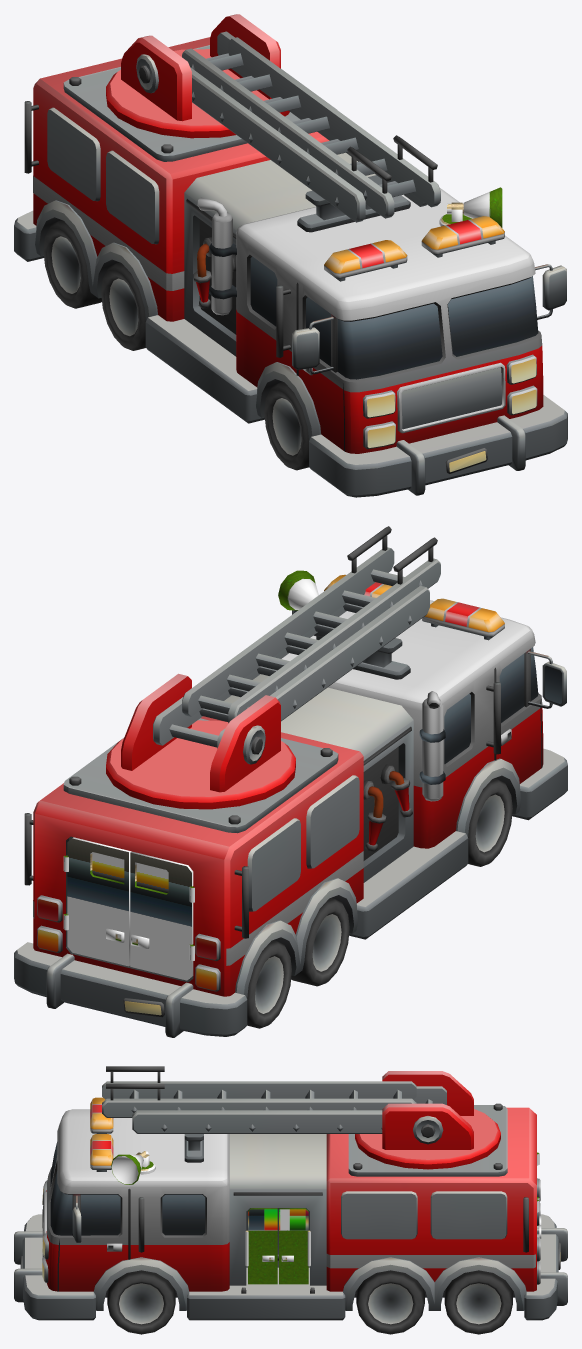
File: Car_11A.fbx
3 views of the same model, one above another, from view 1: azimuth 30°, elevation 25°; view 2: azimuth 150°, elevation 25°; view 3: azimuth 270°, elevation 25° (orthographic). The views are drawn at different scales.
Visible parts, largest first — view 1: Car_11A, Wheel_11A_R.R, Wheel_11A_M.R, Wheel_11A_F.R, Siren; view 2: Car_11A, Door_11A_R.L, Door_11A_R.R, Wheel_11A_M.R, Wheel_11A_R.R, Wheel_11A_F.R, Siren; view 3: Car_11A, Wheel_11A_F.L, Wheel_11A_R.L, Wheel_11A_M.L, Door_11A_M1.L, Door_11A_M2.L, Siren.
Part boxes in pixels (x1,y1,x2,y2): Car_11A: (14,14,567,497); Wheel_11A_R.R: (43,220,101,308); Wheel_11A_M.R: (101,262,145,350); Wheel_11A_F.R: (264,382,308,470); Siren: (439,187,502,227); Car_11A: (14,526,567,1037); Door_11A_R.L: (63,837,131,966); Door_11A_R.R: (130,851,194,980); Wheel_11A_M.R: (291,898,349,986); Wheel_11A_R.R: (247,940,291,1028); Wheel_11A_F.R: (468,778,512,866); Siren: (278,570,318,610); Car_11A: (14,1066,567,1320); Wheel_11A_F.L: (107,1270,175,1334); Wheel_11A_R.L: (444,1270,512,1334); Wheel_11A_M.L: (356,1270,424,1334); Door_11A_M1.L: (245,1208,277,1284); Door_11A_M2.L: (279,1208,310,1284); Siren: (111,1151,155,1184).
Size of the model in its own units: 117 by 119 by 269.
